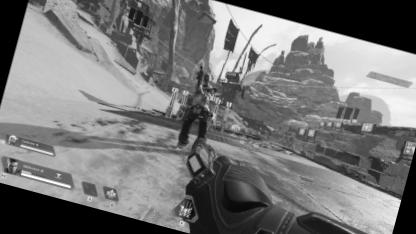Target: (176, 68, 222, 146)
